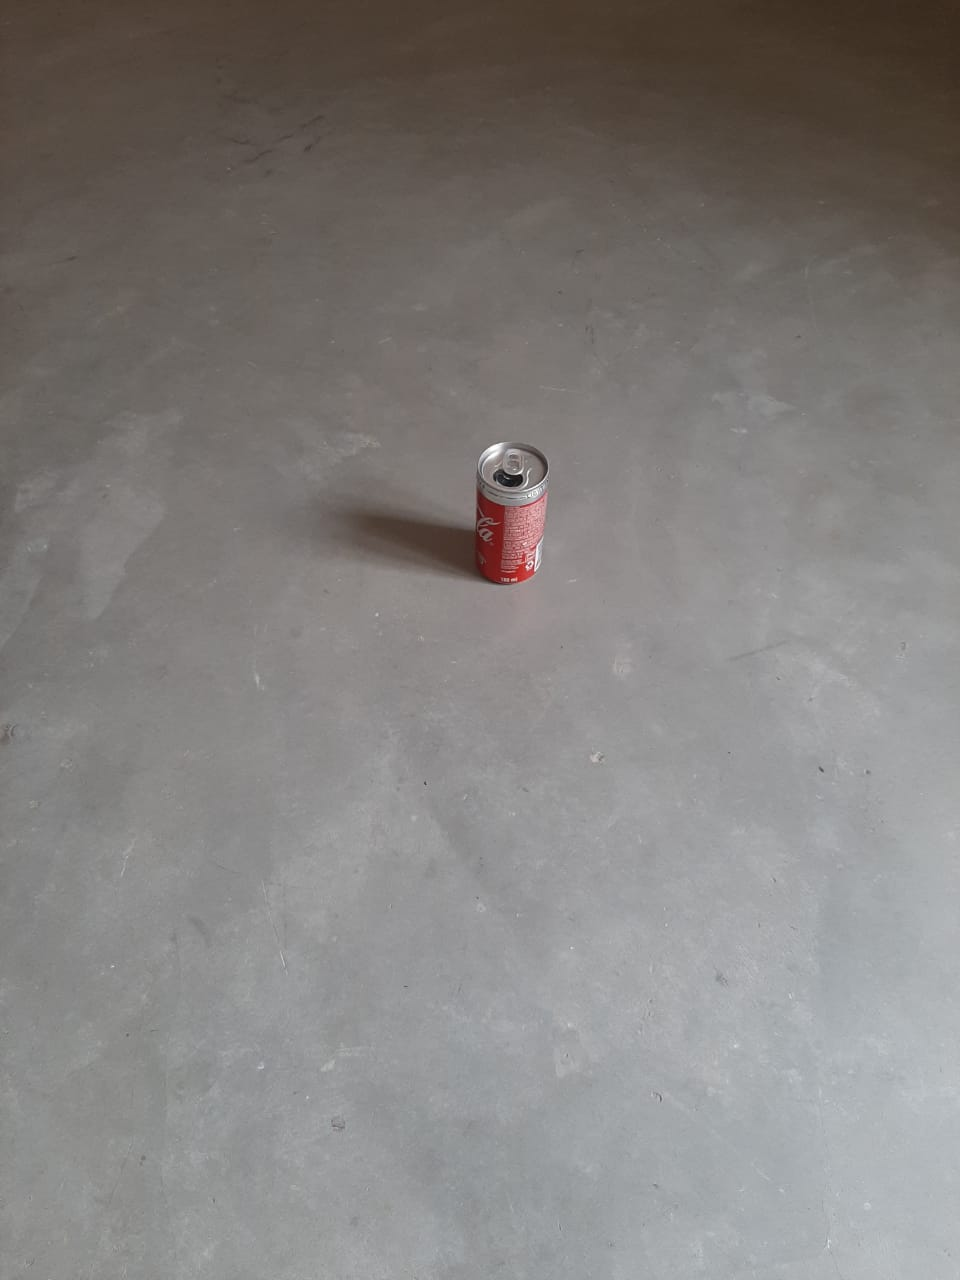Can: (475, 435, 545, 592)
